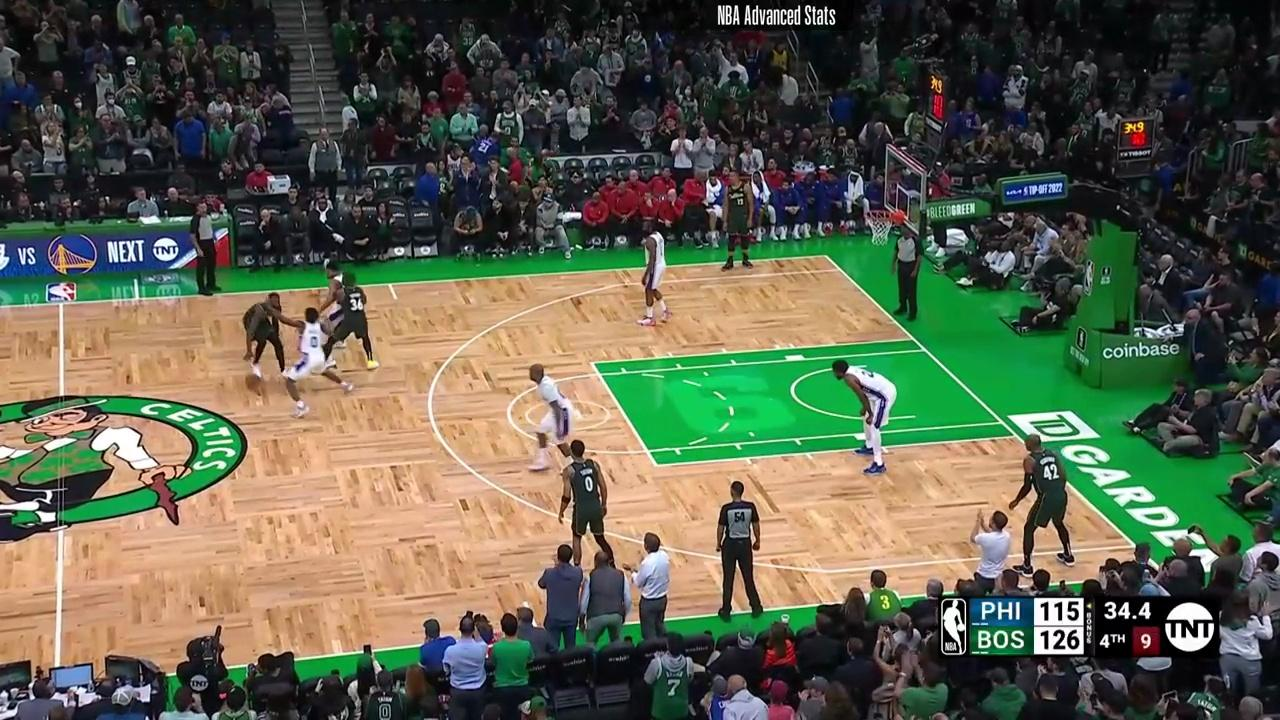Backboard: (880, 146, 928, 241)
Ball: (245, 373, 260, 390)
Basket: (859, 207, 898, 245)
Dribble: (247, 387, 259, 393)
Person: (1007, 430, 1081, 576), (827, 353, 899, 481), (552, 437, 619, 566), (517, 359, 576, 478), (329, 267, 379, 373), (631, 214, 675, 331), (240, 283, 293, 379), (718, 169, 759, 271), (319, 261, 344, 321)
Referee: (710, 477, 767, 622), (888, 222, 929, 322), (188, 198, 222, 298)
Shot Clock: (923, 70, 947, 144), (1119, 117, 1153, 162)
person: (282, 301, 359, 421)
